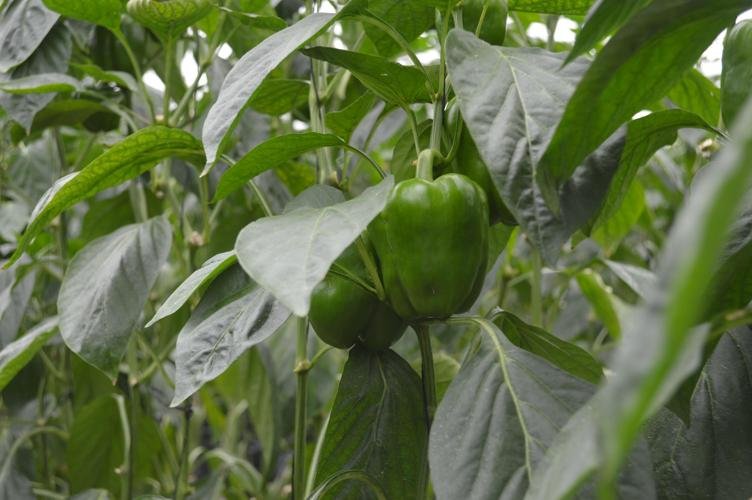BellPepper: (366, 174, 505, 328), (306, 263, 398, 371)
